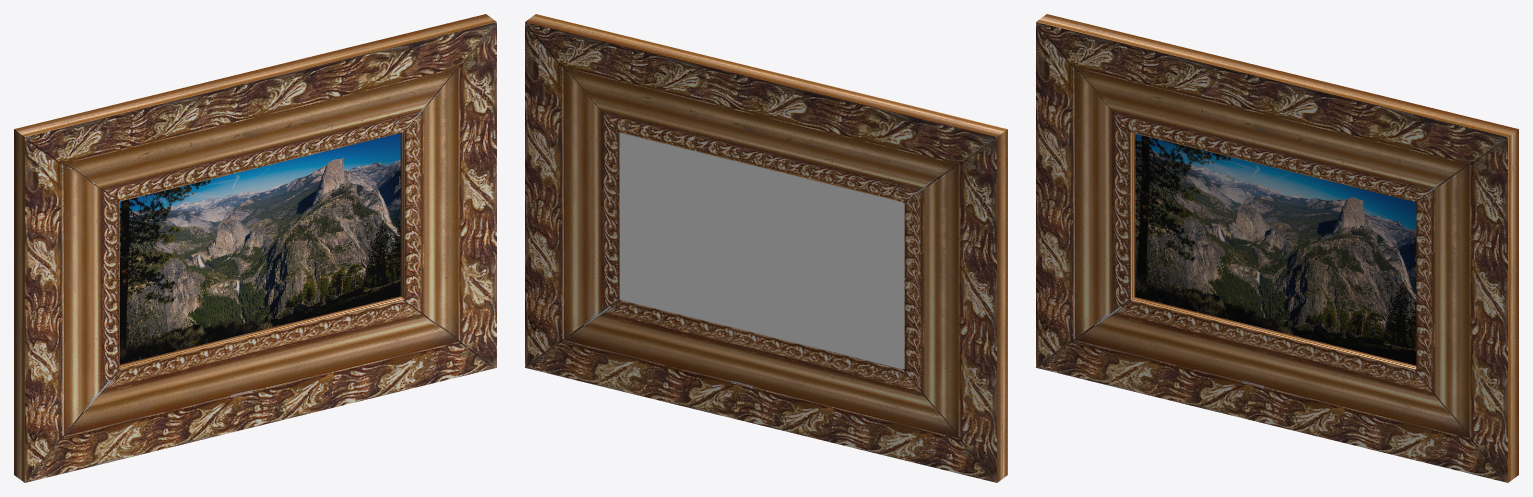
The model's file is Frame_02.FBX.
3 views of the same model, side by side, from view 1: azimuth 30°, elevation 25°; view 2: azimuth 150°, elevation 25°; view 3: azimuth 330°, elevation 25° (orthographic).
Visible parts, largest first — view 1: Frame_02; view 2: Frame_02; view 3: Frame_02.
Part boxes in pixels (x1,y1,x2,y2): Frame_02: (14,14,496,482); Frame_02: (525,14,1007,482); Frame_02: (1036,14,1518,482).
Size of the model in its own units: 900 by 36 by 630.
